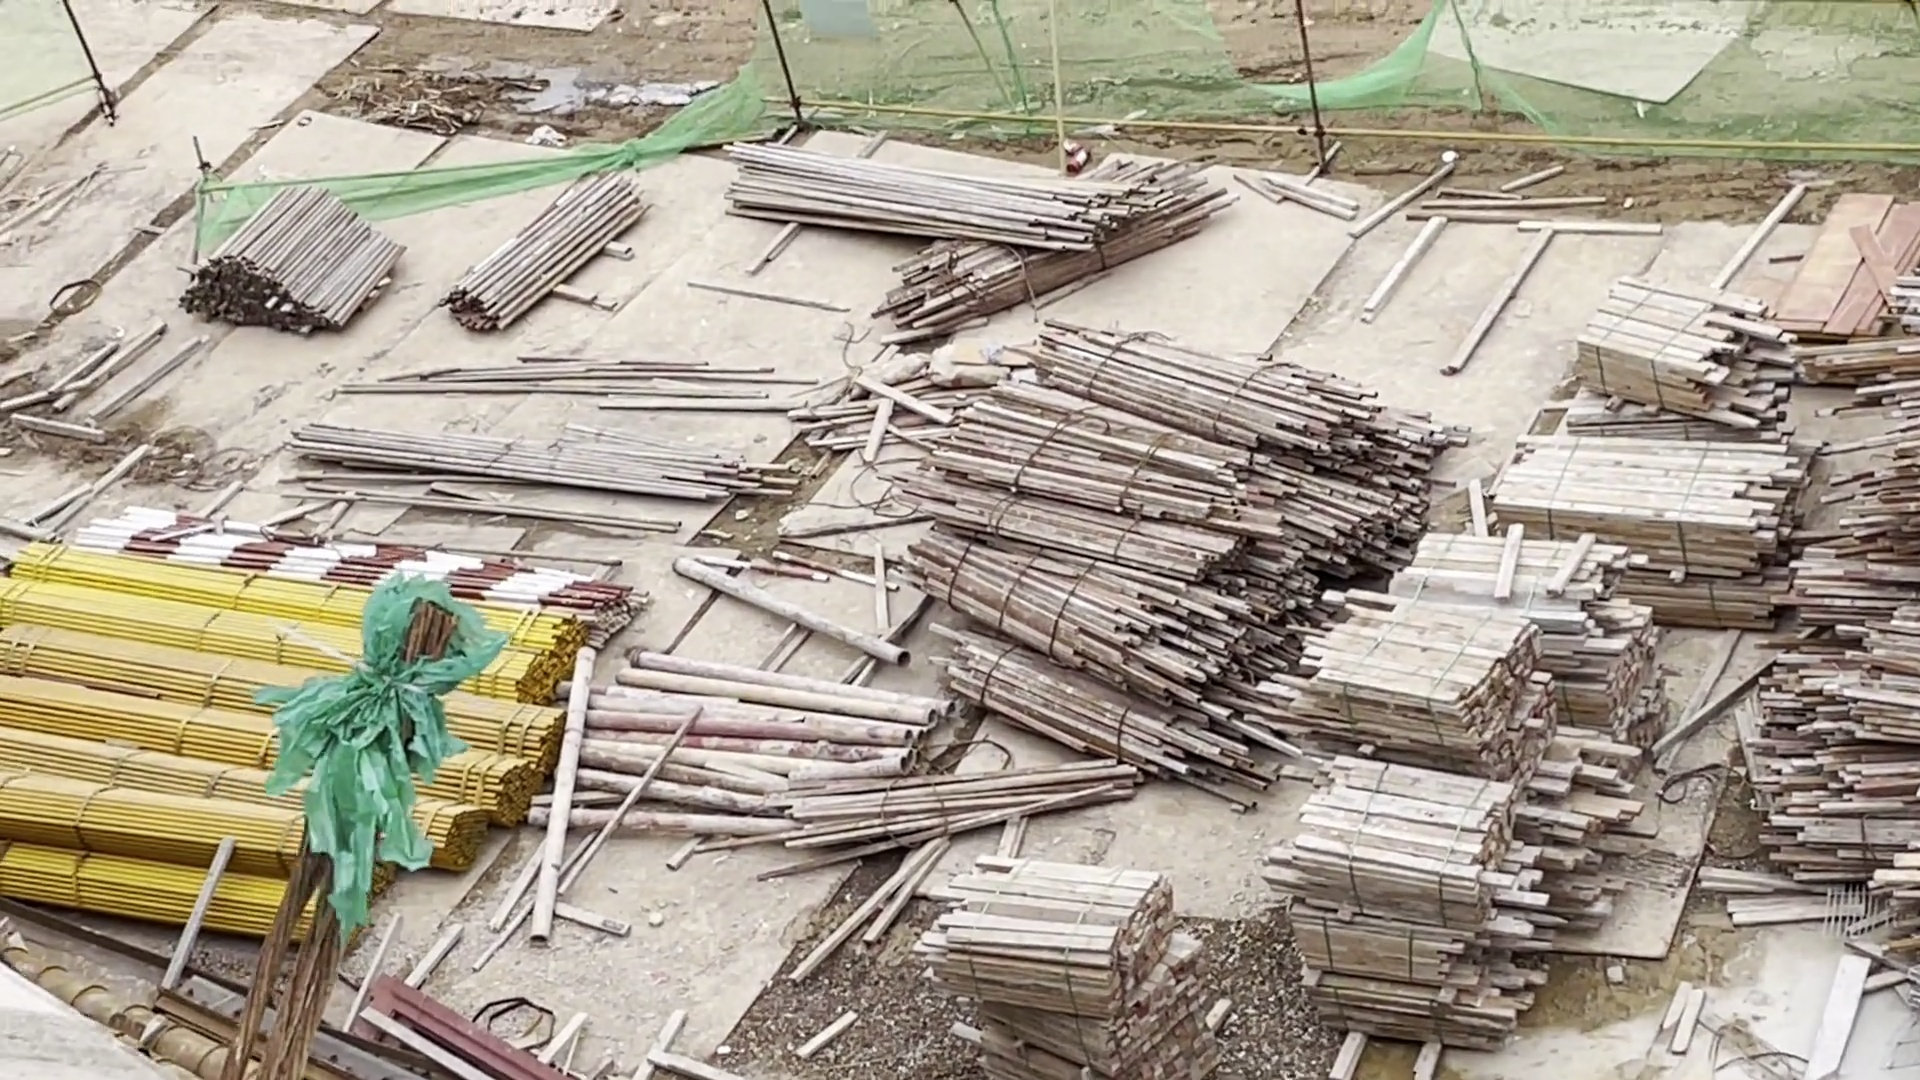board: (1778, 177, 1920, 336)
wood: (1266, 542, 1644, 1036), (891, 320, 1309, 741), (1520, 284, 1841, 597), (742, 136, 1232, 313), (1767, 372, 1920, 891), (918, 851, 1232, 1080), (178, 179, 407, 334), (443, 171, 651, 334)
